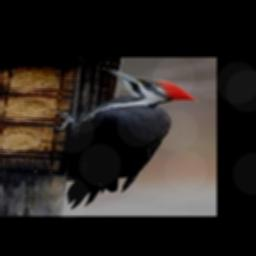Woodpecker: (53, 67, 198, 208)
